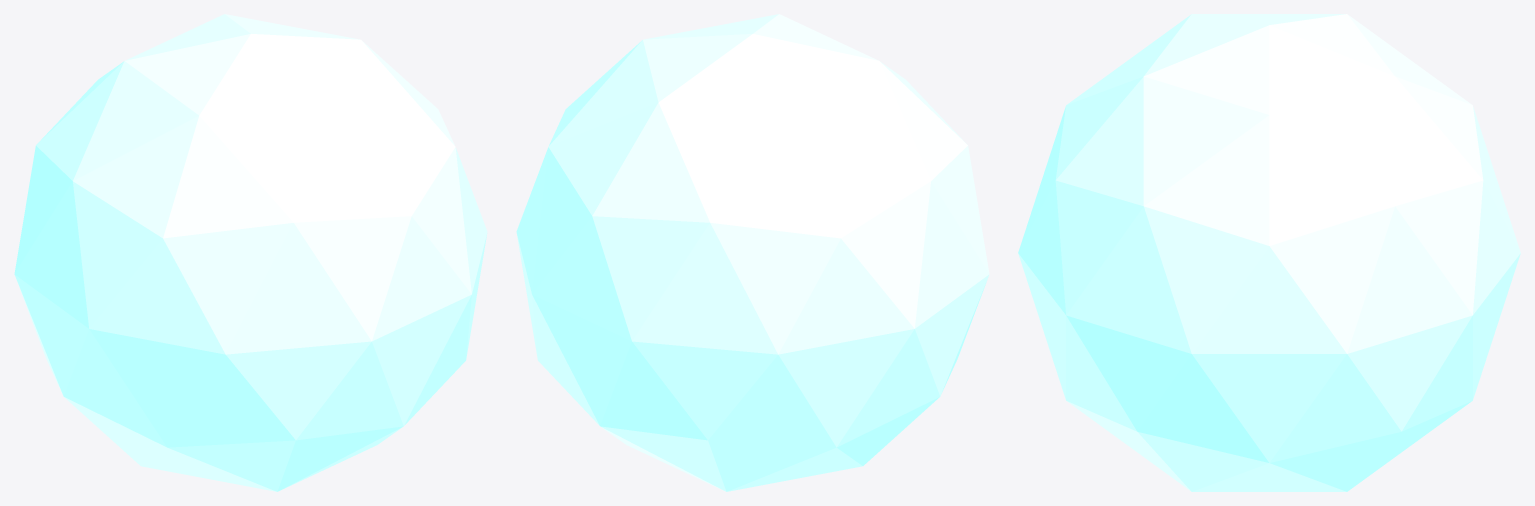
Rendered from Orbe_Azul.glb.
3 views of the same model, side by side, from view 1: azimuth 30°, elevation 25°; view 2: azimuth 150°, elevation 25°; view 3: azimuth 270°, elevation 25° (orthographic). The views are drawn at different scales.
Visible parts, largest first — view 1: Icosphere.001; view 2: Icosphere.001; view 3: Icosphere.001.
Boxes of the visible parts, x1,y1,x2,y2 form: Icosphere.001: (14,14,487,491); Icosphere.001: (516,14,989,491); Icosphere.001: (1018,14,1520,491).
Size of the model in its own units: 0.1902 by 0.2 by 0.2.
